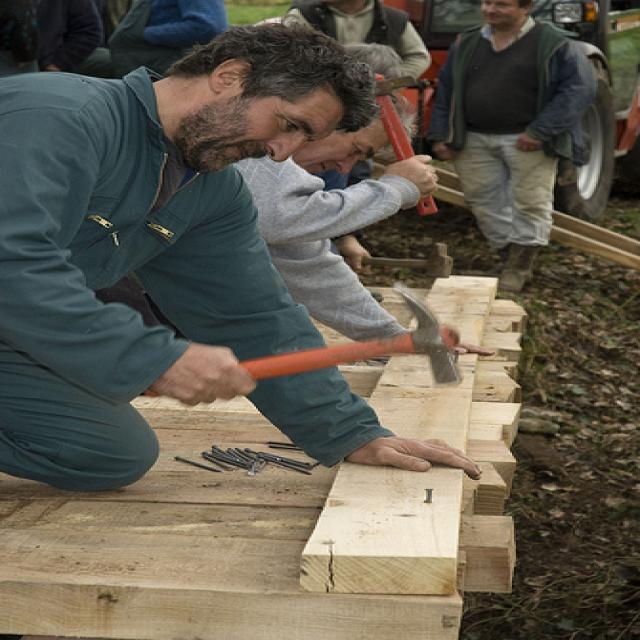hammer: (131, 278, 473, 414), (352, 69, 444, 221)
